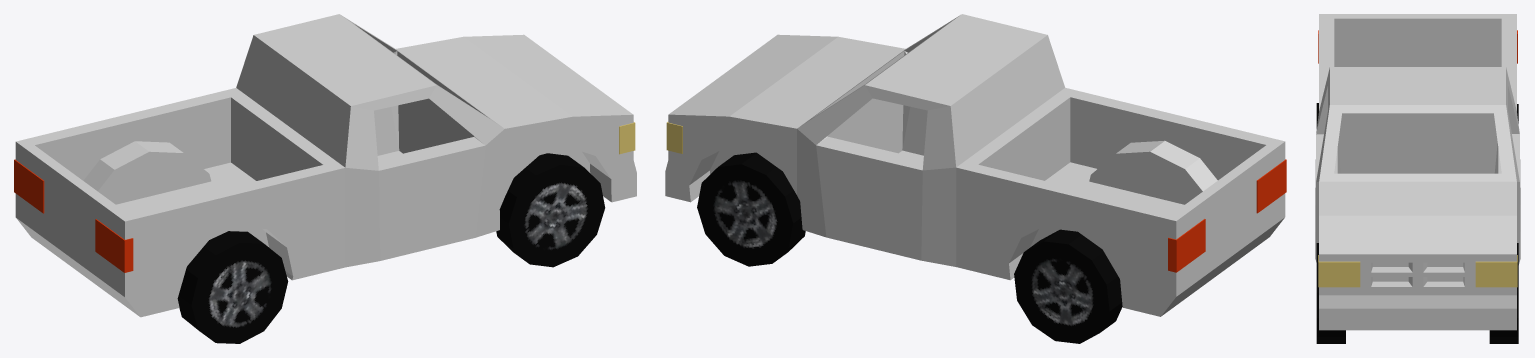
The model's file is car bad.glb.
The picture shows the model from 3 angles, left to right: view 1: azimuth 30°, elevation 25°; view 2: azimuth 150°, elevation 25°; view 3: azimuth 270°, elevation 25°; orthographic projection. The views are drawn at different scales.
Parts seen in each view (by area): view 1: Cube, Cylinder.006, Cylinder.002, Cube.002, Cube.001; view 2: Cube, Cylinder.003, Cylinder.001, Cube.002, Cube.001; view 3: Cube, Cube.001, Cylinder.002, Cylinder.001.
Boxes of the visible parts, <box> form: Cube: <box>15,14,636,317</box>; Cylinder.006: <box>177,231,288,343</box>; Cylinder.002: <box>496,153,605,267</box>; Cube.002: <box>14,159,133,272</box>; Cube.001: <box>619,122,635,154</box>; Cube: <box>665,14,1285,316</box>; Cylinder.003: <box>1014,229,1122,343</box>; Cylinder.001: <box>697,152,805,266</box>; Cube.002: <box>1168,159,1286,272</box>; Cube.001: <box>666,122,682,153</box>; Cube: <box>1315,14,1520,330</box>; Cube.001: <box>1318,255,1517,287</box>; Cylinder.002: <box>1316,243,1345,343</box>; Cylinder.001: <box>1489,243,1518,343</box>.
Size of the model in its own units: 4.77 by 1.81 by 1.83.
Materials: 4 (1 with a texture image).
